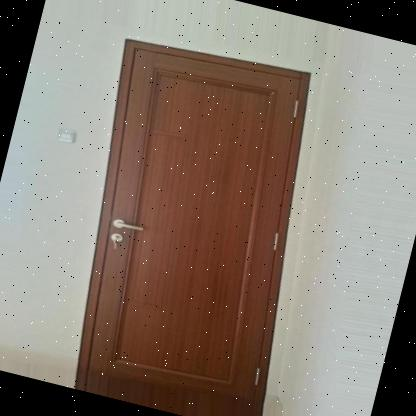door: (37, 22, 358, 416)
